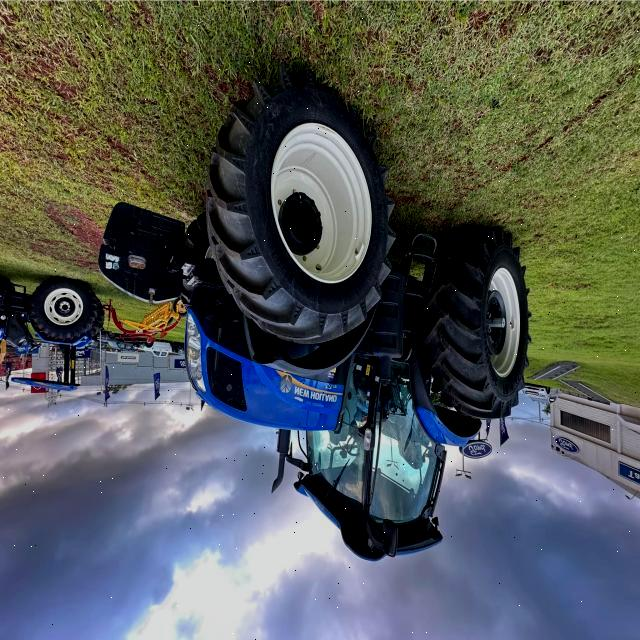Tratores - v5 YOLO V8L 2024-11-13: (98, 74, 527, 570), (0, 282, 98, 388)
